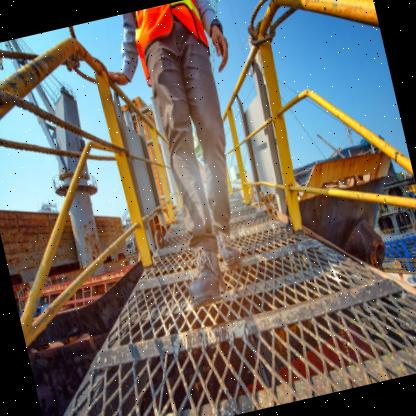bota: (178, 242, 230, 313), (212, 224, 245, 270)
